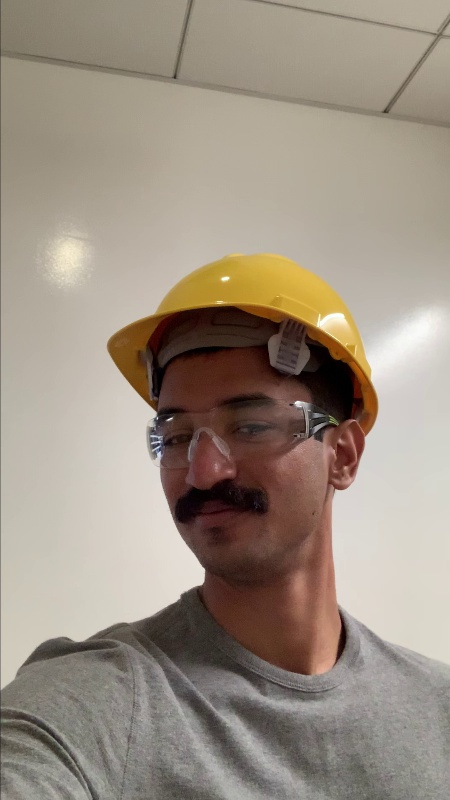glasses: (138, 404, 313, 453)
helmet: (105, 249, 366, 342)
